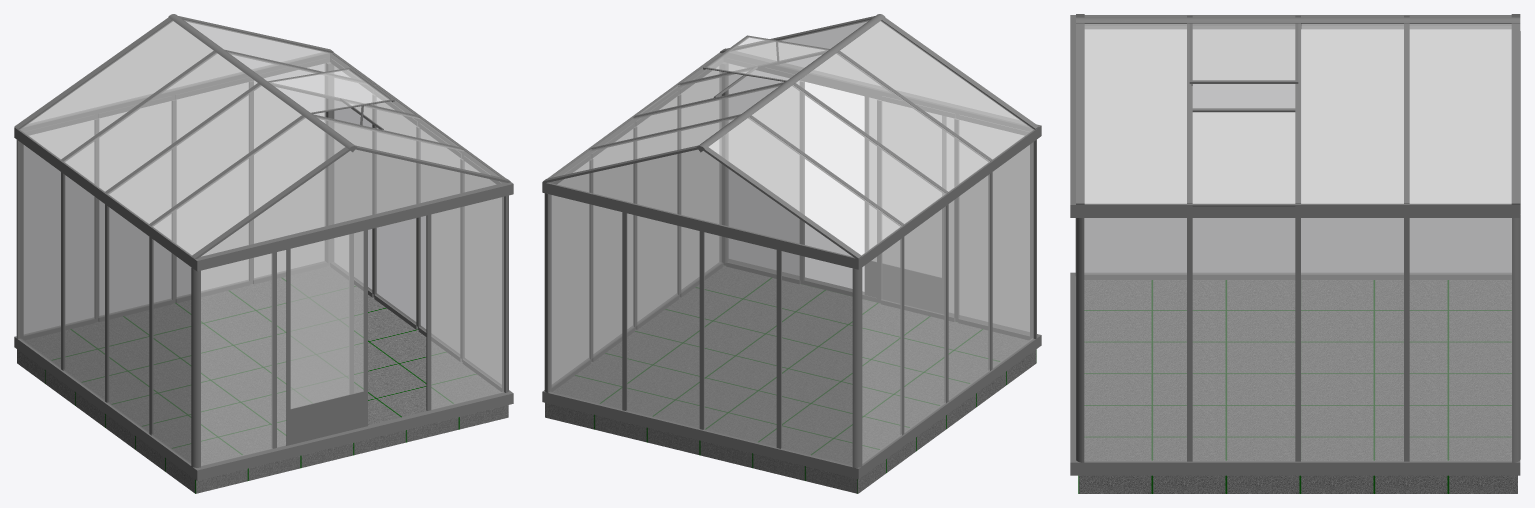
The model's file is greenhouse.glb.
3 renders of one model, left to right at view 1: azimuth 30°, elevation 25°; view 2: azimuth 150°, elevation 25°; view 3: azimuth 270°, elevation 25°, orthographic. The views are drawn at different scales.
Parts seen in each view (by area): view 1: Object_4, Object_2, Object_3; view 2: Object_4, Object_3, Object_2; view 3: Object_4, Object_3, Object_2.
Part boxes in pixels (x1,y1,x2,y2): Object_4: (20,20,504,465); Object_2: (14,14,513,480); Object_3: (17,266,508,493); Object_4: (549,20,1033,465); Object_3: (545,265,1036,493); Object_2: (542,14,1041,479); Object_4: (1084,16,1511,461); Object_3: (1078,280,1517,493); Object_2: (1070,14,1520,475).
Size of the model in its own units: 310 by 290 by 310.
Materials: 3 (1 with a texture image).
